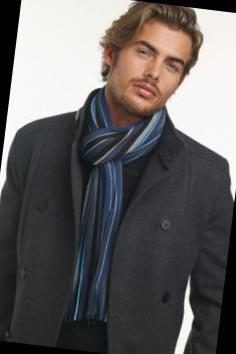Sober: (116, 17, 181, 115)
